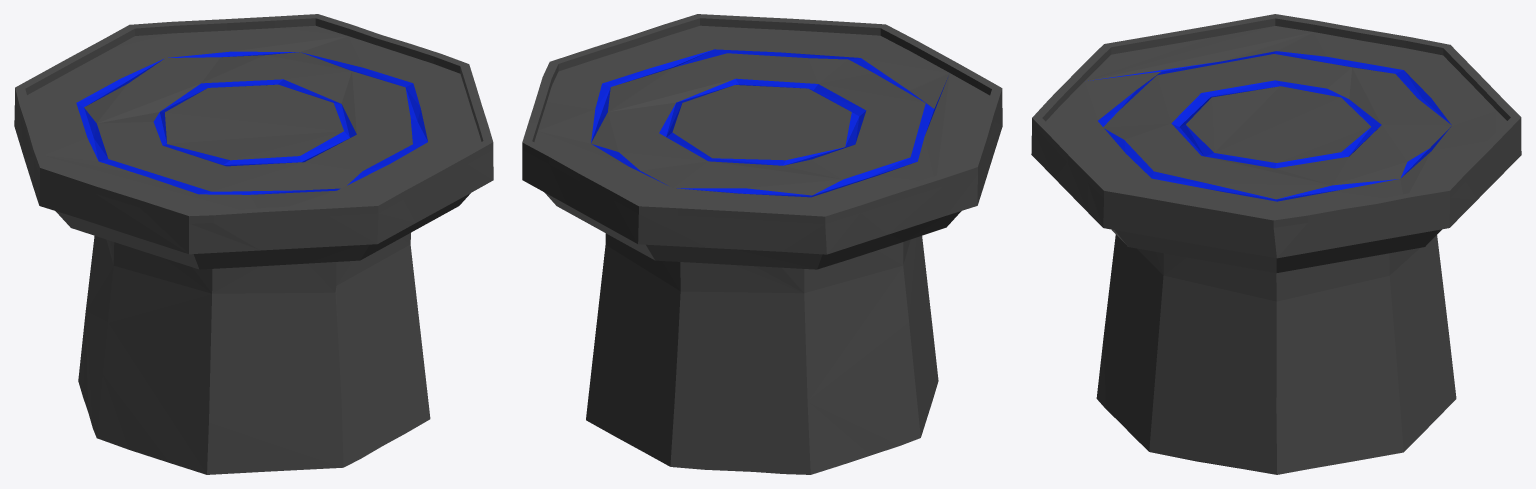
File: augumenatation altar.fbx
3 views of the same model, side by side, from view 1: azimuth 30°, elevation 25°; view 2: azimuth 150°, elevation 25°; view 3: azimuth 270°, elevation 25° (orthographic).
Visible parts, largest first — view 1: Cylinder.016; view 2: Cylinder.016; view 3: Cylinder.016.
Part boxes in pixels (<box>): Cylinder.016: <box>14,14,493,474</box>; Cylinder.016: <box>522,14,1002,474</box>; Cylinder.016: <box>1031,14,1521,474</box>.
Bounding box in the file's own units: 271 × 172 × 271.
